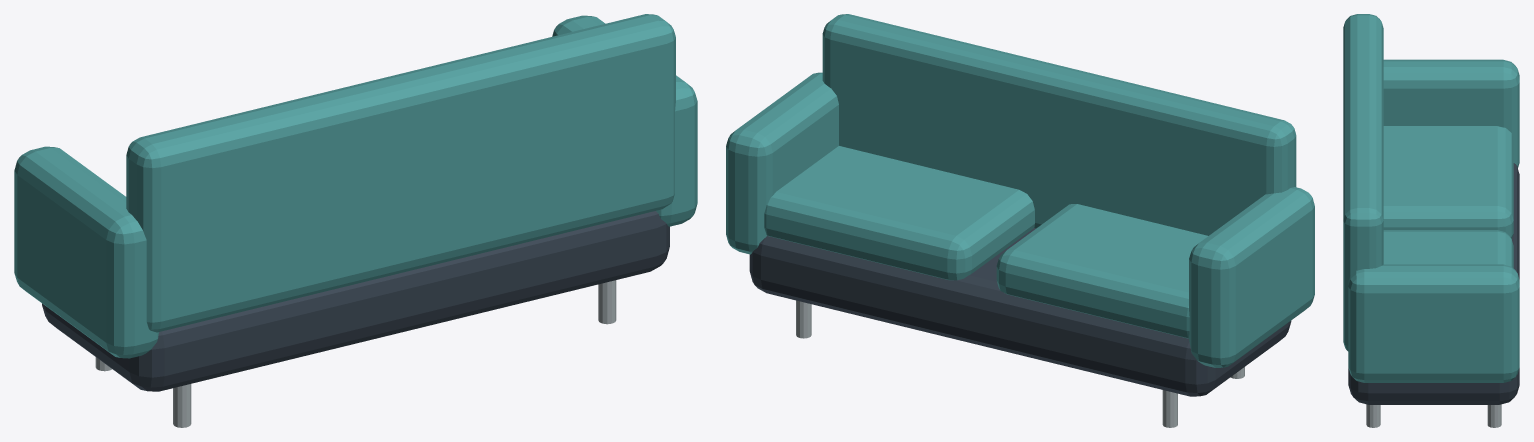
File: sofa.glb
The picture shows the model from 3 angles, left to right: view 1: azimuth 30°, elevation 25°; view 2: azimuth 150°, elevation 25°; view 3: azimuth 270°, elevation 25°; orthographic projection. The views are drawn at different scales.
Visible parts, largest first — view 1: sofa; view 2: sofa; view 3: sofa.
Boxes of the visible parts, box(x1,y1,x2,y2) form: sofa: box(14, 14, 697, 427); sofa: box(726, 14, 1314, 427); sofa: box(1343, 14, 1519, 427).
Size of the model in its own units: 2.63 by 1.27 by 0.875.
